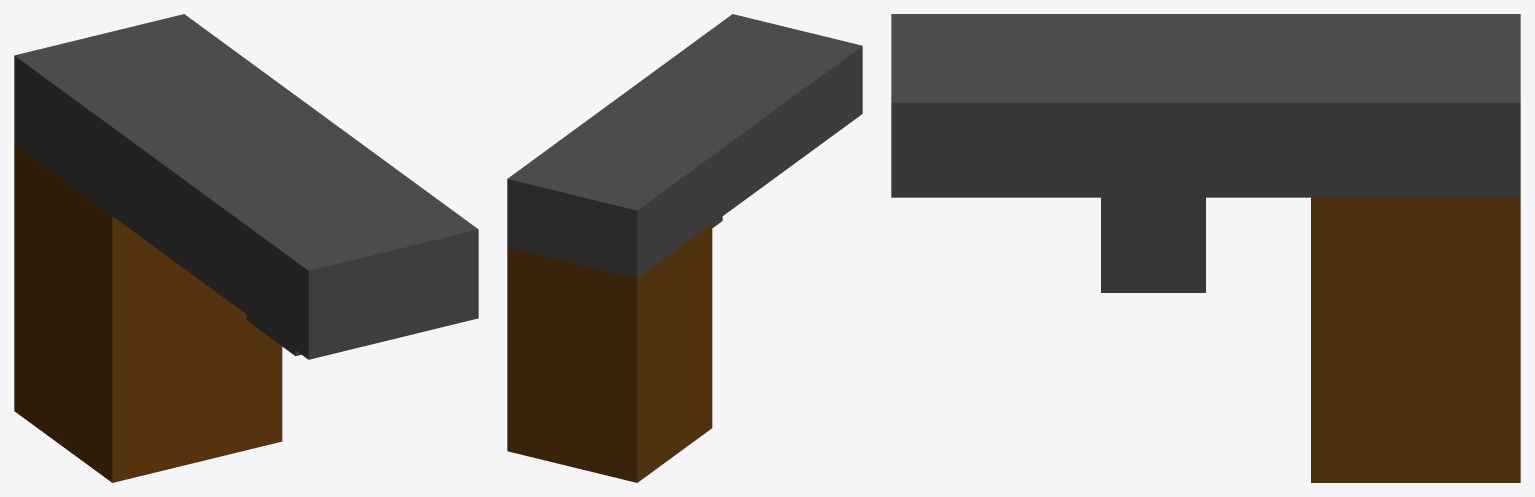
File: Pistol.fbx
3 views of the same model, side by side, from view 1: azimuth 30°, elevation 25°; view 2: azimuth 150°, elevation 25°; view 3: azimuth 270°, elevation 25° (orthographic). The views are drawn at different scales.
Parts seen in each view (by area): view 1: ObjObject; view 2: ObjObject; view 3: ObjObject.
Boxes of the visible parts, x1,y1,x2,y2 form: ObjObject: [14, 14, 478, 482]; ObjObject: [507, 14, 862, 482]; ObjObject: [891, 14, 1520, 482].
Size of the model in its own units: 20 by 40 by 60.
